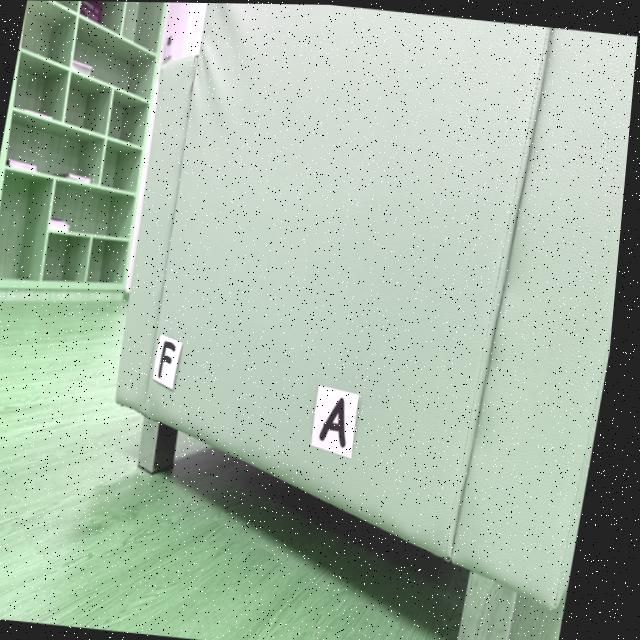F: (164, 341, 182, 378)
